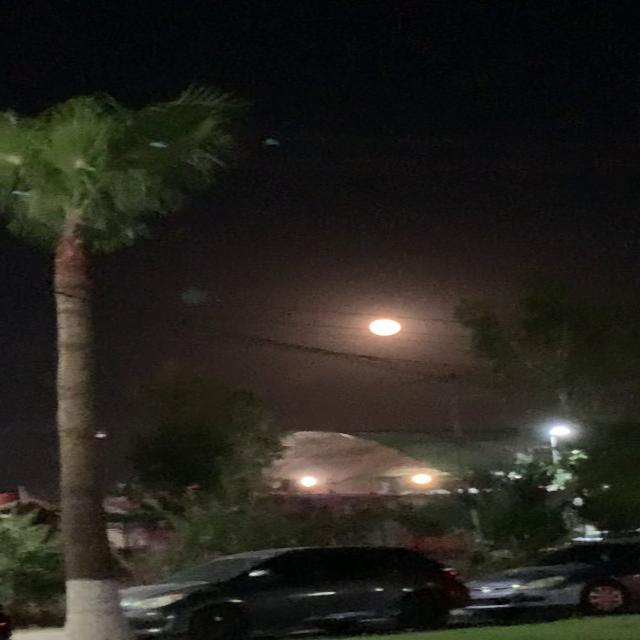moon: (365, 312, 417, 338)
